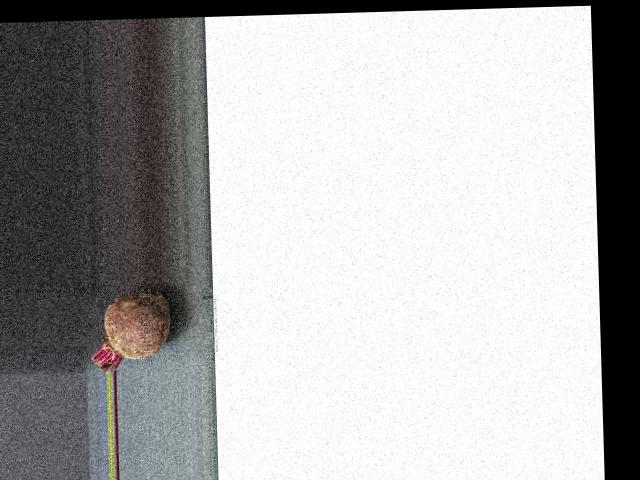beet: (90, 290, 171, 372)
